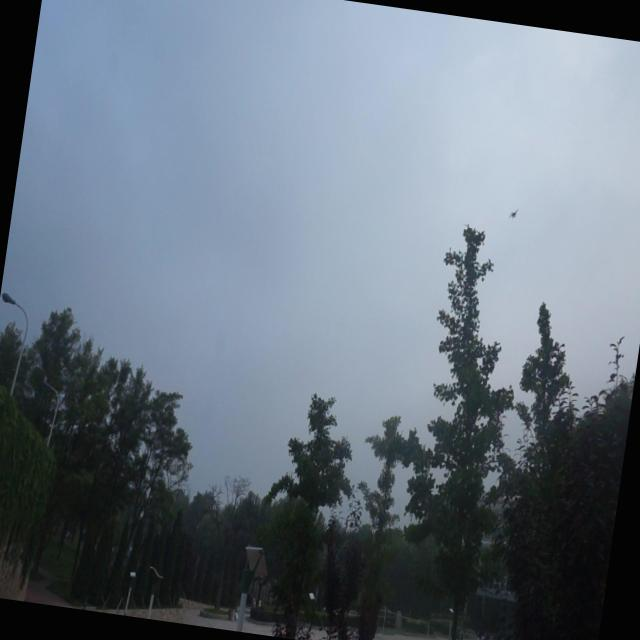drone: (508, 204, 522, 220)
